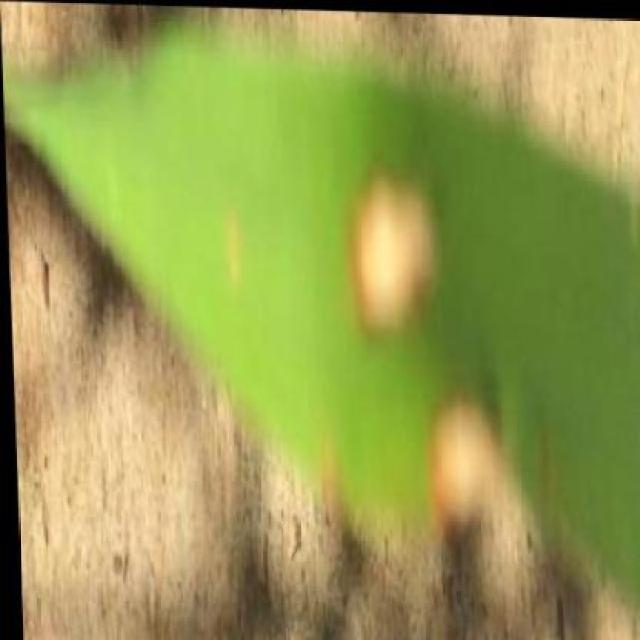Bacterial_Leaf_Blight: (309, 128, 473, 370), (383, 364, 514, 558)
